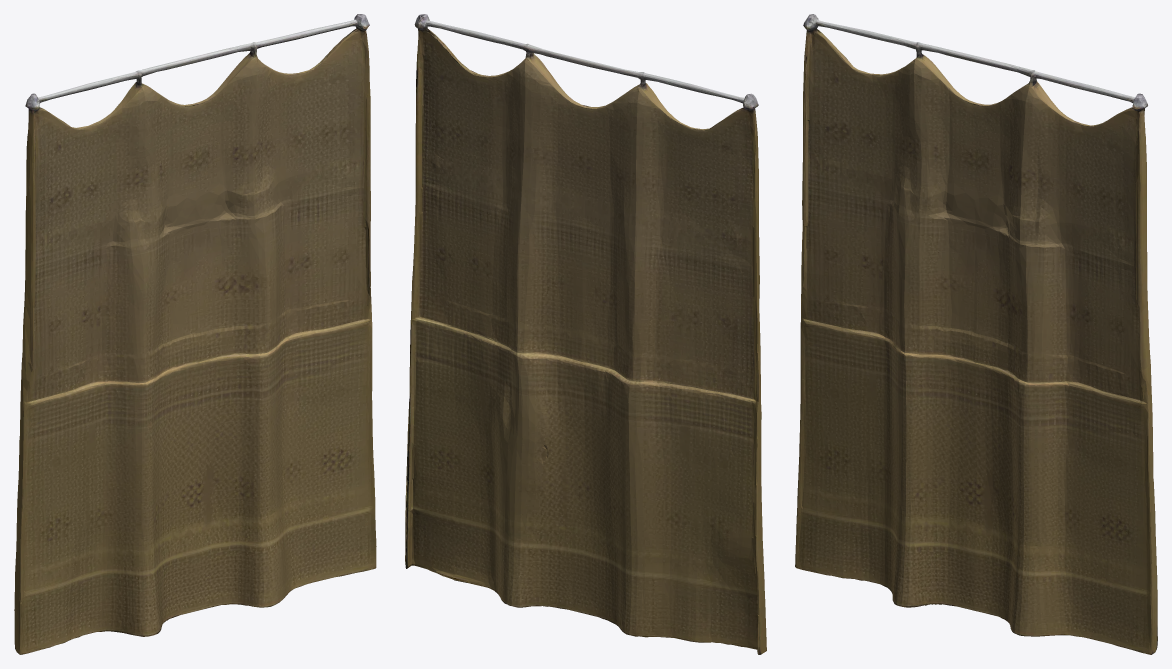
The model's file is 5acc42c5-f701-455e-99cd-71baf5ee4a1b.glb.
The picture shows the model from 3 angles, left to right: view 1: azimuth 30°, elevation 25°; view 2: azimuth 150°, elevation 25°; view 3: azimuth 330°, elevation 25°; orthographic projection.
Visible parts, largest first — view 1: world; view 2: world; view 3: world.
Boxes of the visible parts, left/top/right/bottom form: world: left=14, top=14, right=376, bottom=654; world: left=405, top=14, right=766, bottom=654; world: left=795, top=14, right=1157, bottom=654.
Bounding box in the file's own units: 0.6731 × 1 × 0.103.
1 material, 1 textured.
